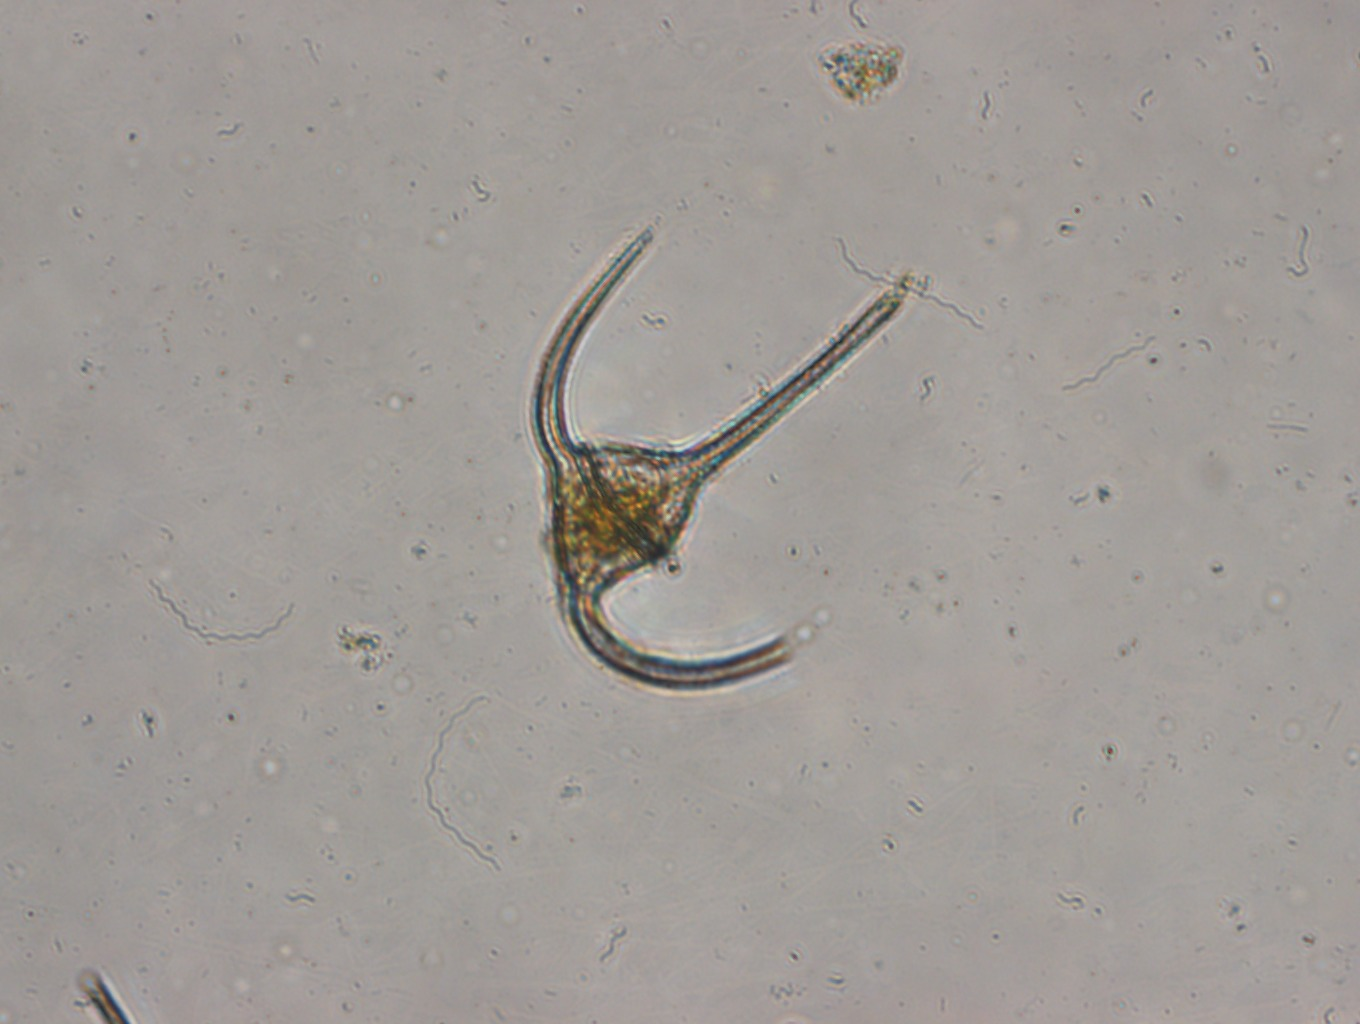ceratium trichoceros: (525, 216, 914, 700)
